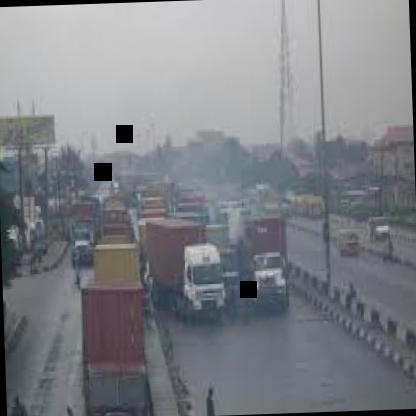car: (332, 212, 364, 264), (366, 211, 395, 249)
